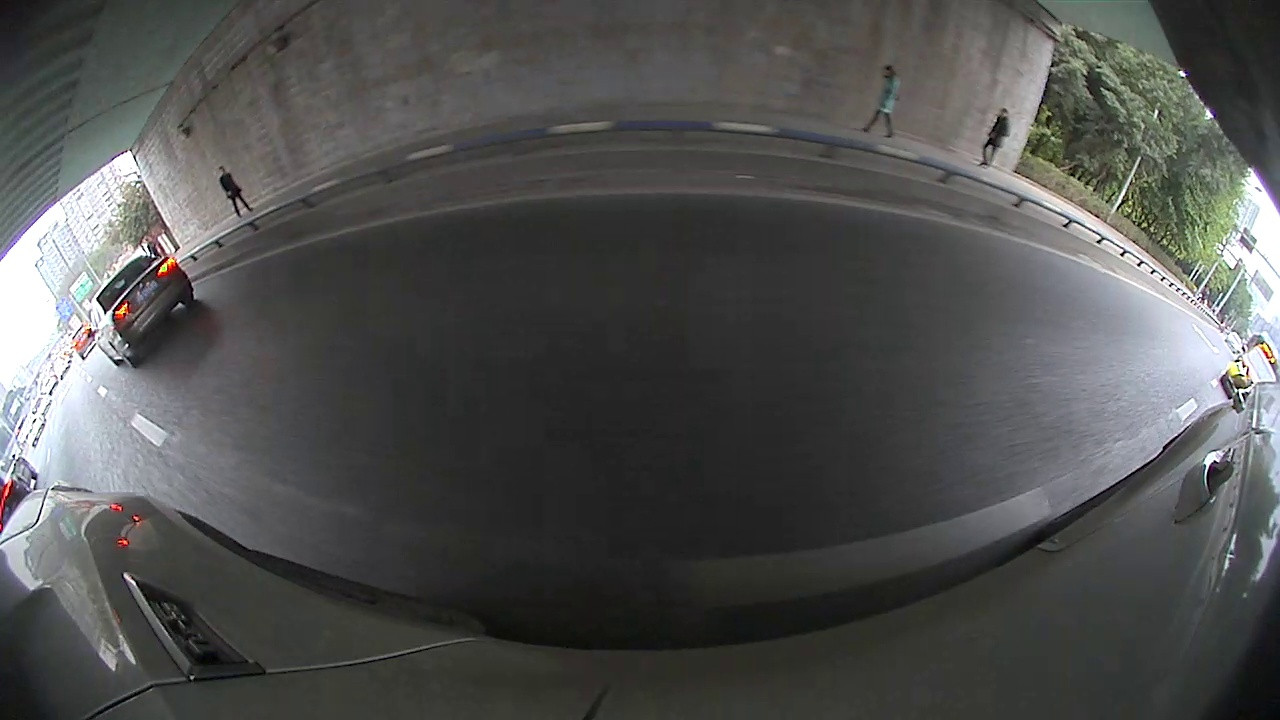car: (118, 90, 488, 301), (1176, 366, 1246, 459), (0, 323, 53, 402), (1070, 230, 1130, 296), (1150, 311, 1191, 356), (76, 235, 116, 281)
front: (278, 206, 367, 285), (491, 100, 537, 144)
rear: (152, 252, 203, 302)
